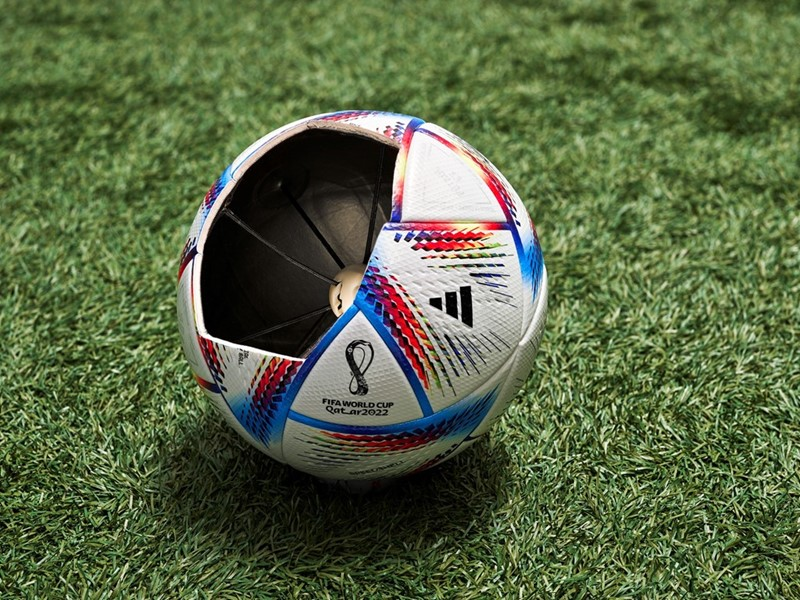sphere: (176, 109, 548, 478)
